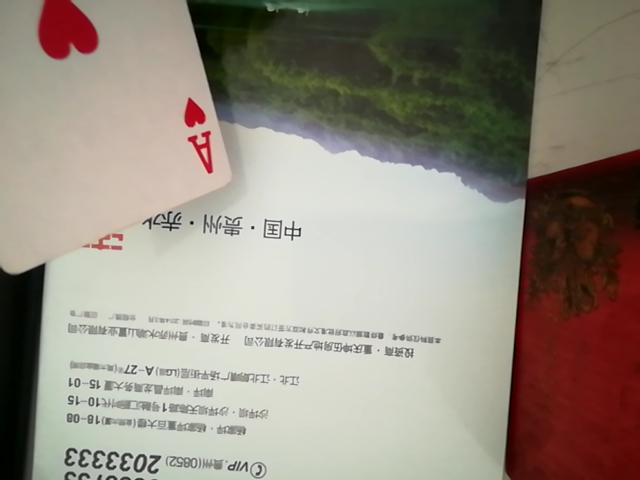hx a: (4, 0, 243, 306)
